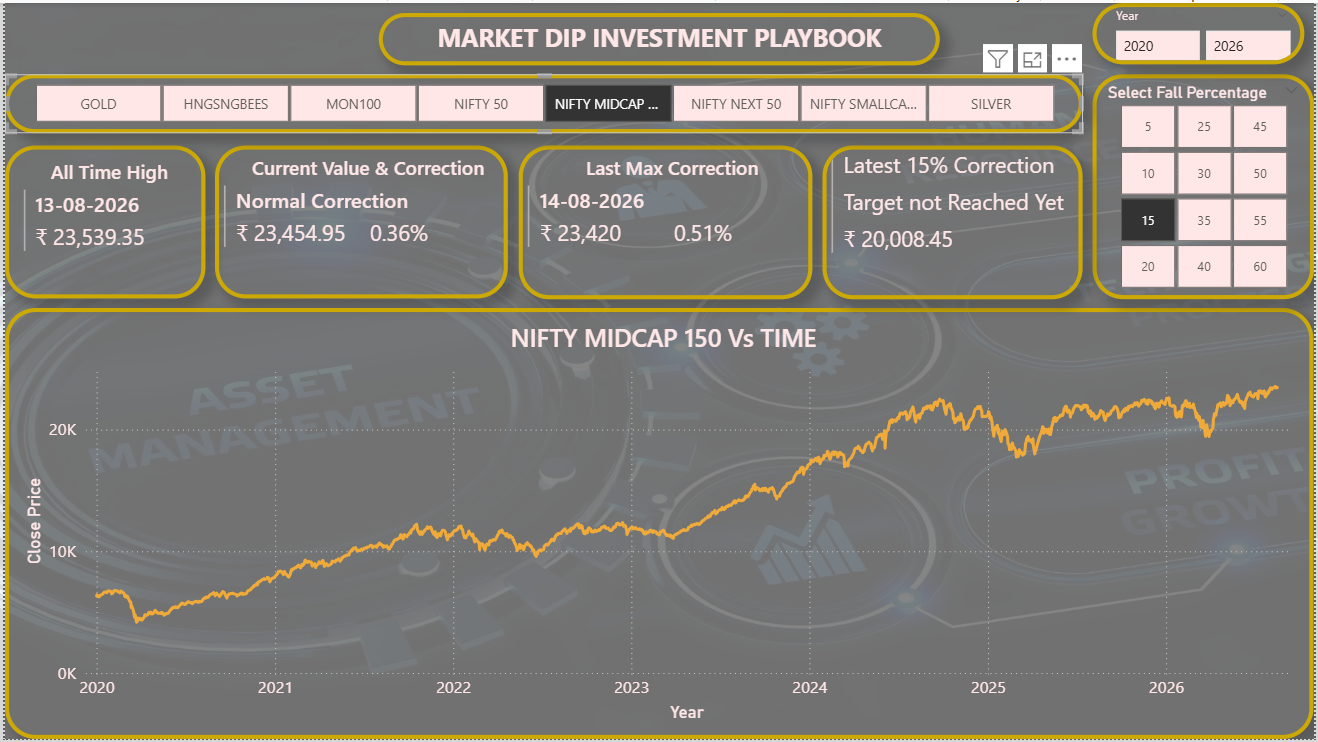

What the dashboard file says about the page in this screenshot:
{"tool":"powerbi","page":{"name":"Dashboard","canvas":[1280,720],"ordinal":0},"visuals":[{"type":"slicer","fields":{"Values":["Commodities.Asset Class"]},"box":[0,69.7,1054.1,57.5],"z":0},{"type":"multiRowCard","title":"All Time High","fields":{"Values":["Combine Data.Dt ATH","Combine Data.ATH"]},"box":[0,140,196.2,149.6],"z":1000},{"type":"multiRowCard","title":"Current Value & Correction","fields":{"Values":["Combine Data.Current Value","Combine Data.Current Correction","Combine Data.Play Book"]},"box":[205.8,140,286.8,149.6],"z":2000},{"type":"multiRowCard","title":"Last Max Correction","fields":{"Values":["Combine Data.dt max correction","Combine Data.Max correction","Combine Data.Max correction(%)"]},"box":[502.4,139.4,287.4,150.4],"z":3000},{"type":"lineChart","fields":{"Category":["Combine Data.DATE.Variation.Date Hierarchy.Year","Combine Data.DATE.Variation.Date Hierarchy.Quarter","Combine Data.DATE.Variation.Date Hierarchy.Month","Combine Data.DATE.Variation.Date Hierarchy.Day"],"Y":["Sum(Combine Data.ADJ. PRICE)"]},"box":[0,298.4,1280.3,421.9],"z":4000},{"type":"slicer","fields":{"Values":["Fall Percentage.Fall Percentage"]},"box":[1063.9,69.7,216.4,220.1],"z":5000},{"type":"multiRowCard","title":"Latest Correction","fields":{"Values":["Fall Percentage.Header","Combine Data.Date of Fall","Combine Data.Fall Value"]},"box":[799.5,139.4,254.3,150.4],"z":6000},{"type":"textbox","box":[365.5,9.8,549.1,51.4],"z":7000},{"type":"slicer","fields":{"Values":["Combine Data.DATE.Variation.Date Hierarchy.Year"]},"box":[1063.5,0,207.2,60.4],"z":8000}]}

Visuals, with their boxes in screenshot pixels (x1, y1, x2, y2), scaled from the page's 1280x720 canvas onto the 1318x742 screenshot:
slicer - Commodities.Asset Class: 0/72/1085/131
"All Time High" multiRowCard: 0/144/202/298
"Current Value & Correction" multiRowCard: 212/144/507/298
"Last Max Correction" multiRowCard: 517/144/813/299
lineChart - Combine Data.DATE.Variation.Date Hierarchy.Year x Combine Data.DATE.Variation.Date Hierarchy.Quarter: 0/308/1317/741
slicer - Fall Percentage.Fall Percentage: 1095/72/1317/299
"Latest Correction" multiRowCard: 823/144/1085/299
textbox: 376/10/942/63
slicer - Combine Data.DATE.Variation.Date Hierarchy.Year: 1095/0/1308/62
